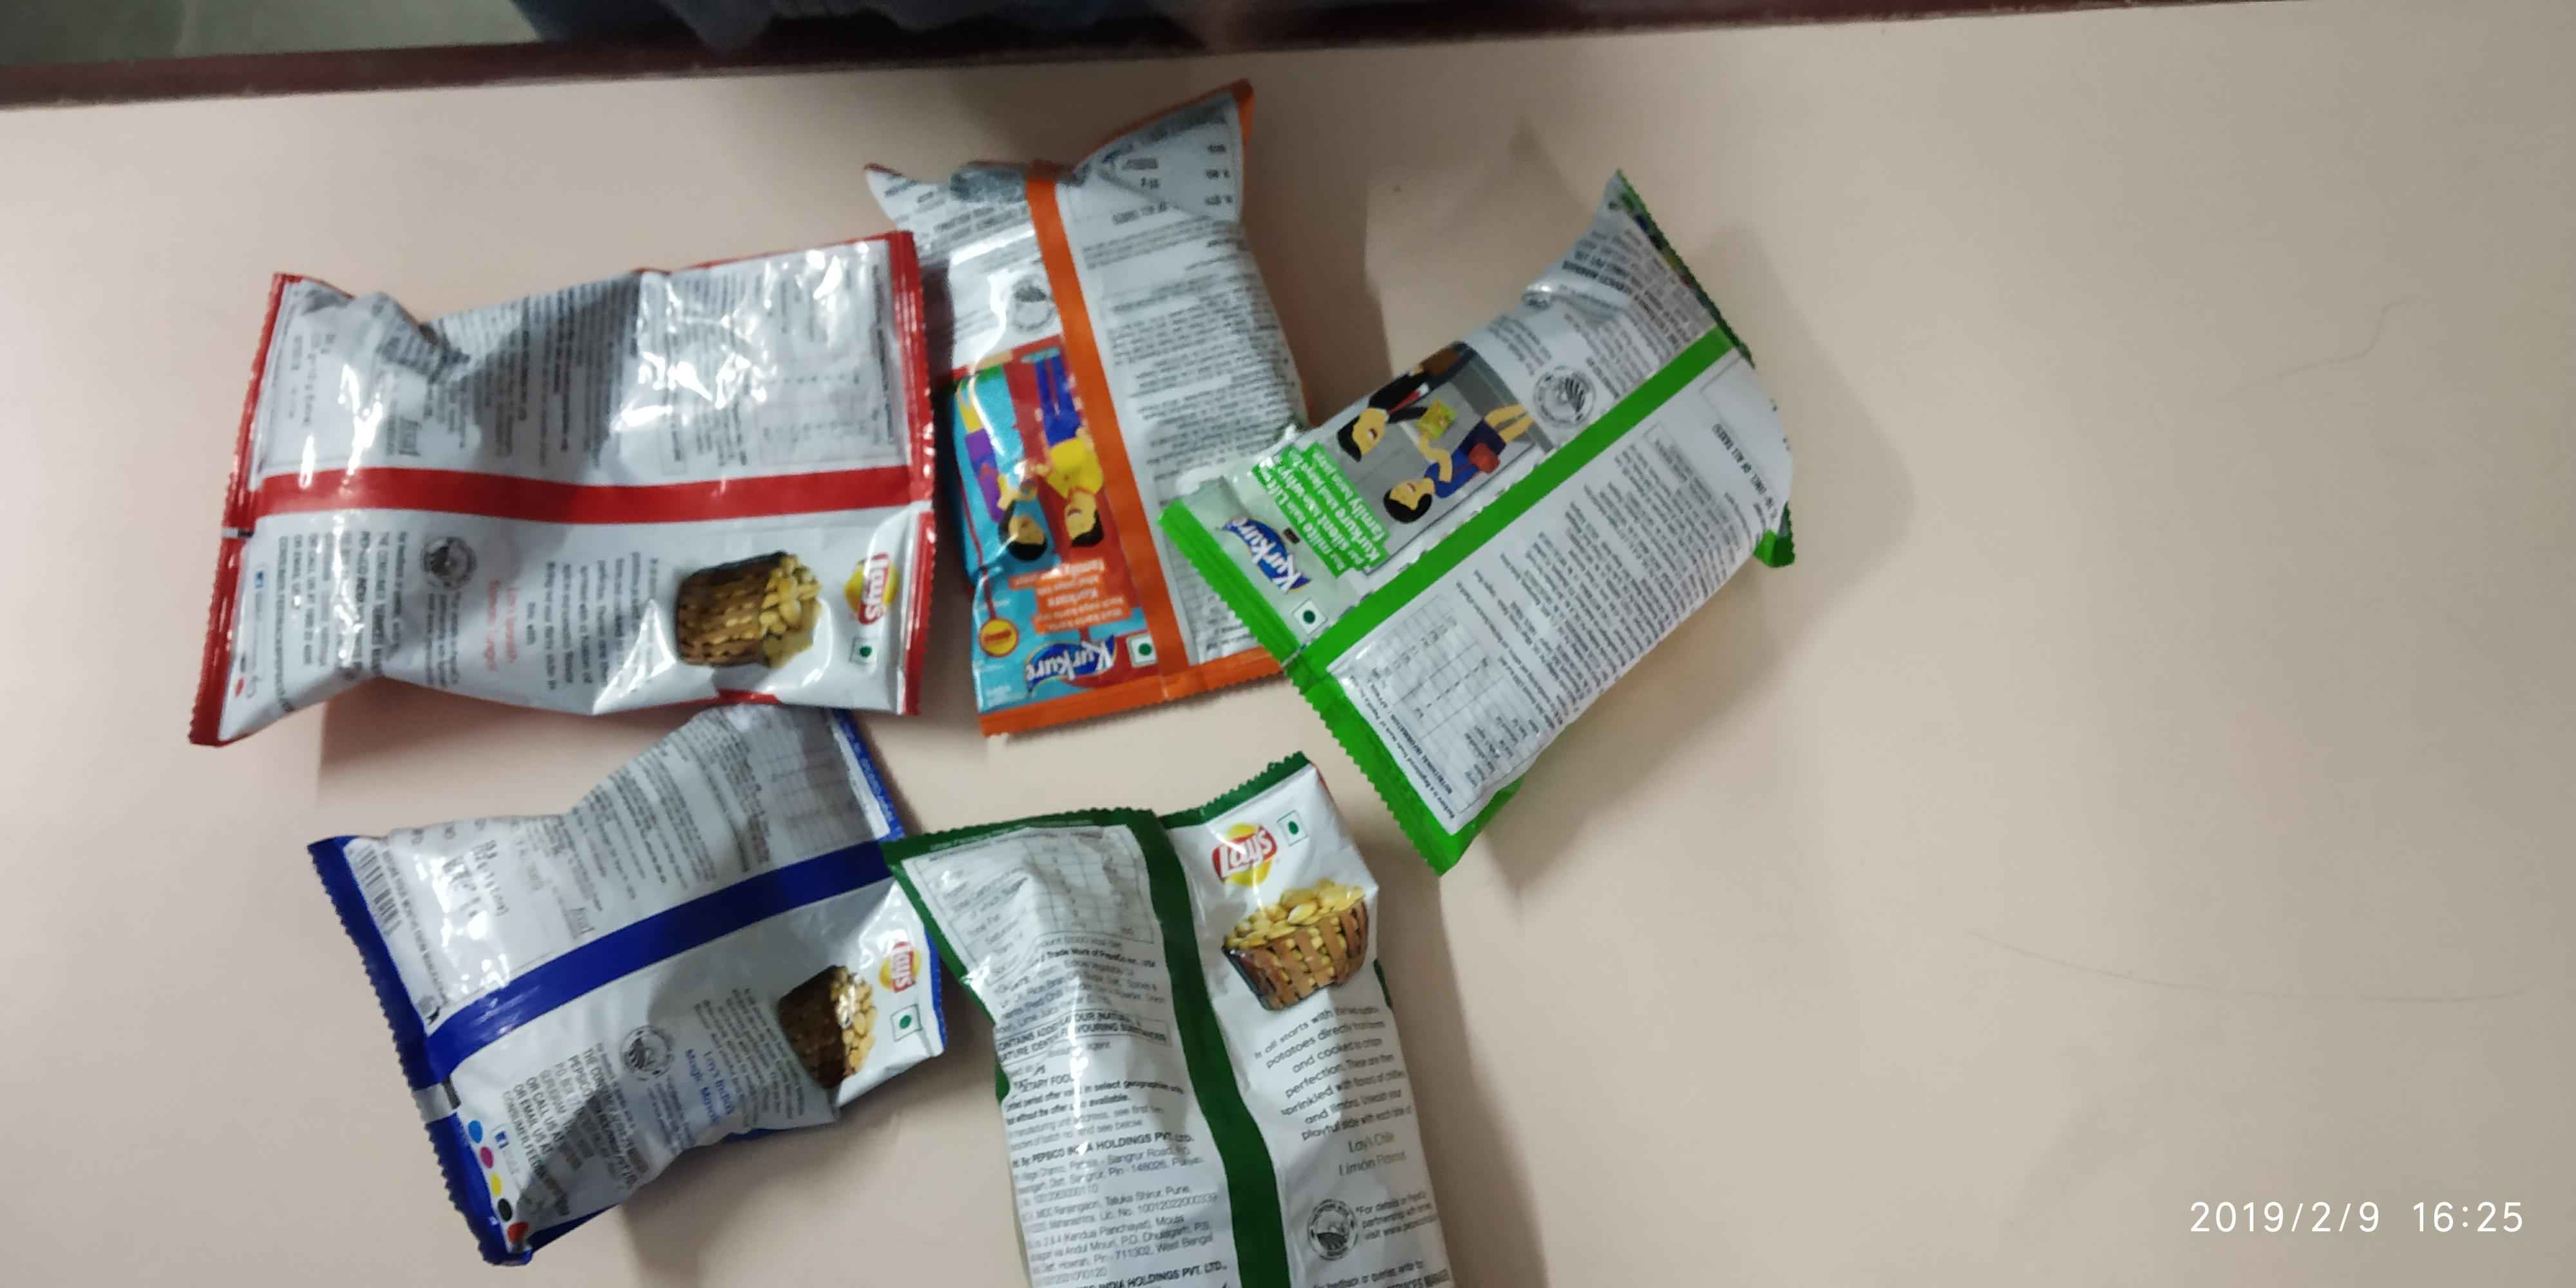Lays: (1194, 818, 1296, 892), (839, 537, 907, 634), (876, 930, 936, 1005)
kurkure: (1209, 508, 1321, 601), (1015, 639, 1130, 688)
